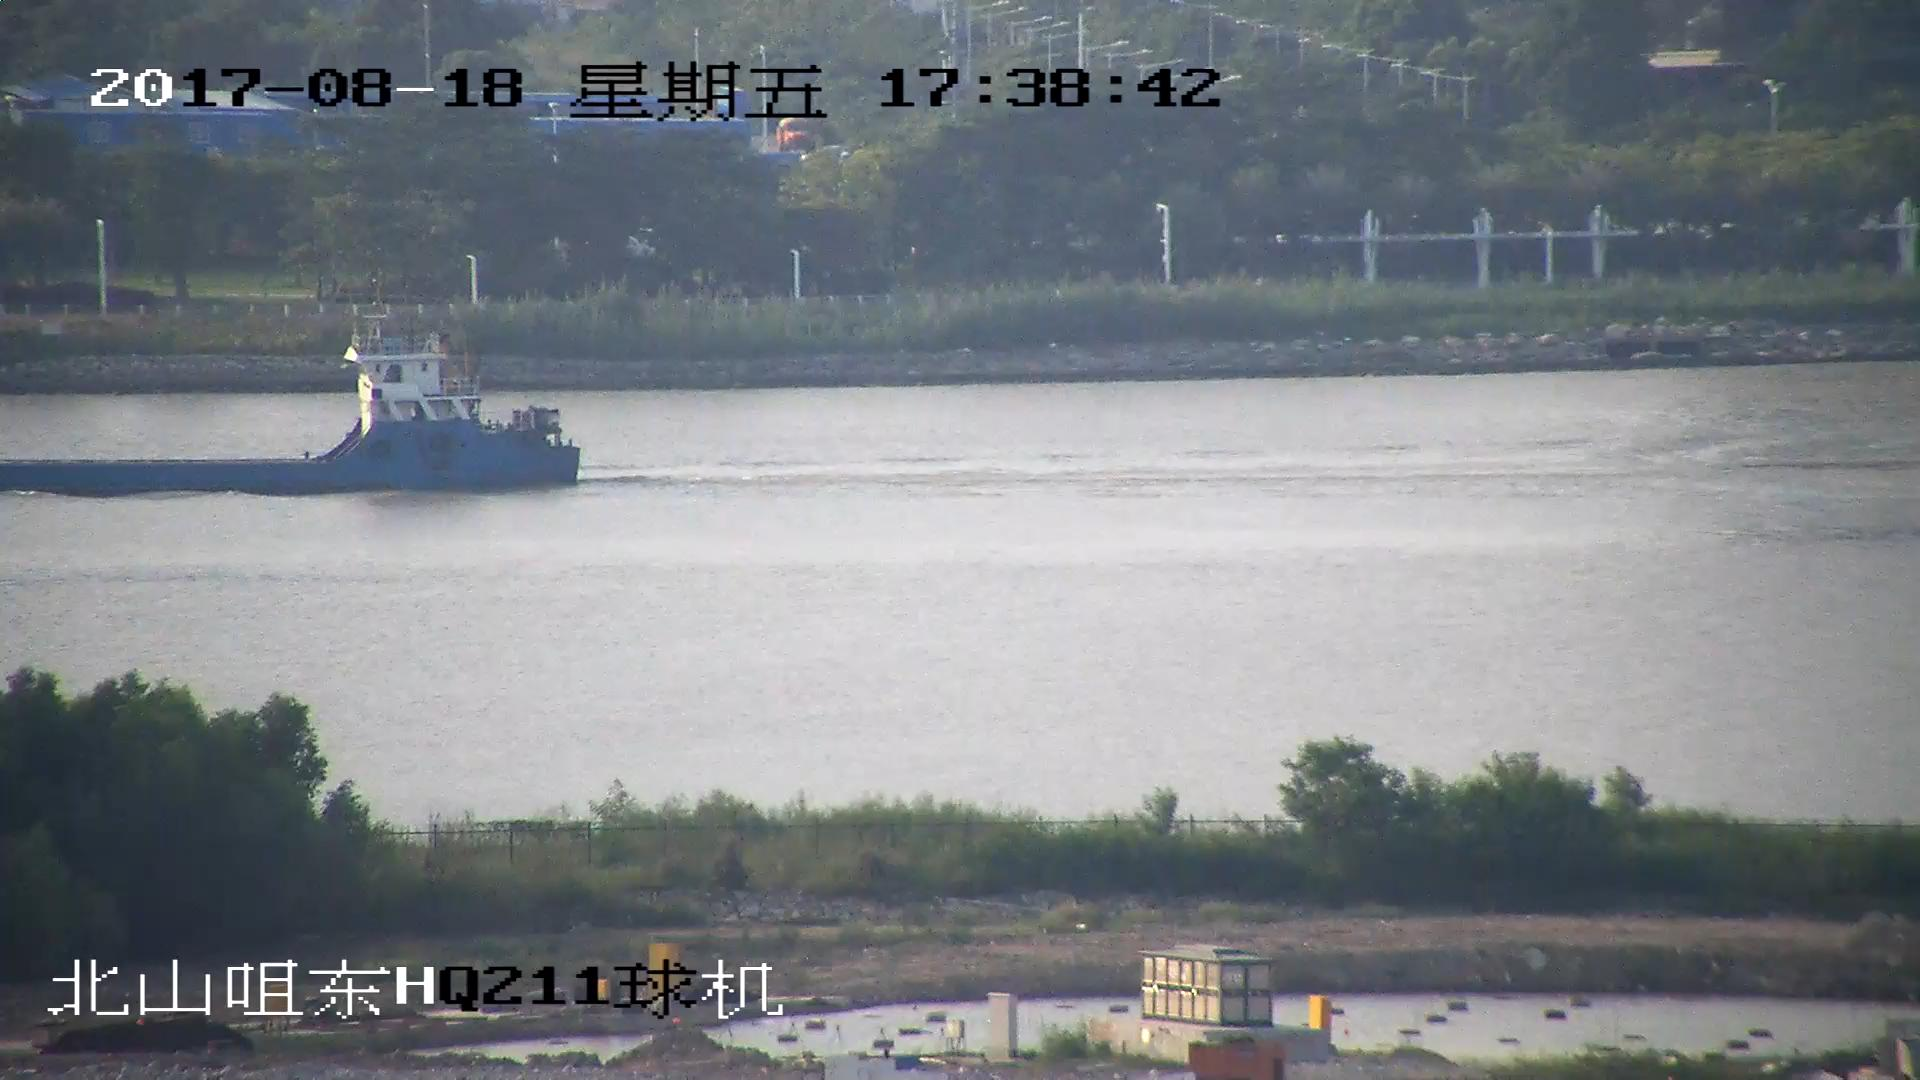general cargo ship: (1, 283, 584, 497)
